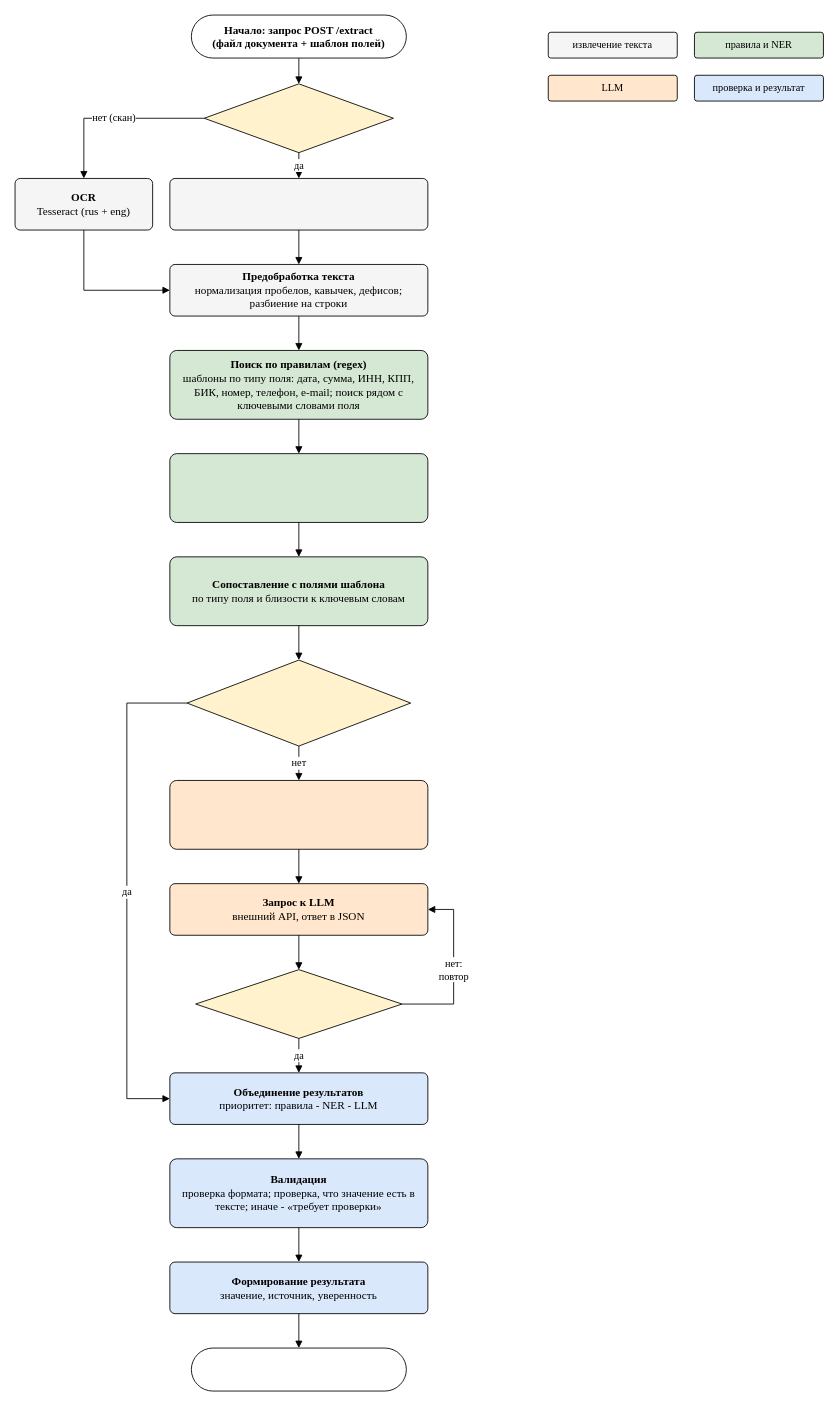
Image size: 839x1406. Some labels were removed from this diagram. Here are the shapes that lost their labels. From the top down, the centre of each, then its label:
At pixel 298 118: "Есть текстовый слой?".
At pixel 298 204: "Извлечение текста PDF - PyMuPDF, DOCX - python-docx".
At pixel 298 487: "Распознавание именованных сущностей (NER)".
At pixel 298 702: "Все поля найдены?".
At pixel 298 814: "Формирование запроса к LLM только ненайденные поля".
At pixel 298 1003: "Ответ - корректный JSON?".
At pixel 298 1369: "Конец: JSON-ответ веб-приложению Laravel".
